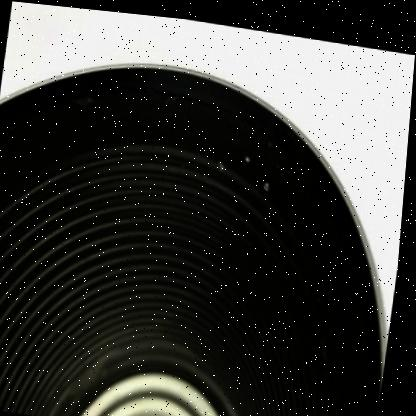Metal: (0, 61, 388, 416)
